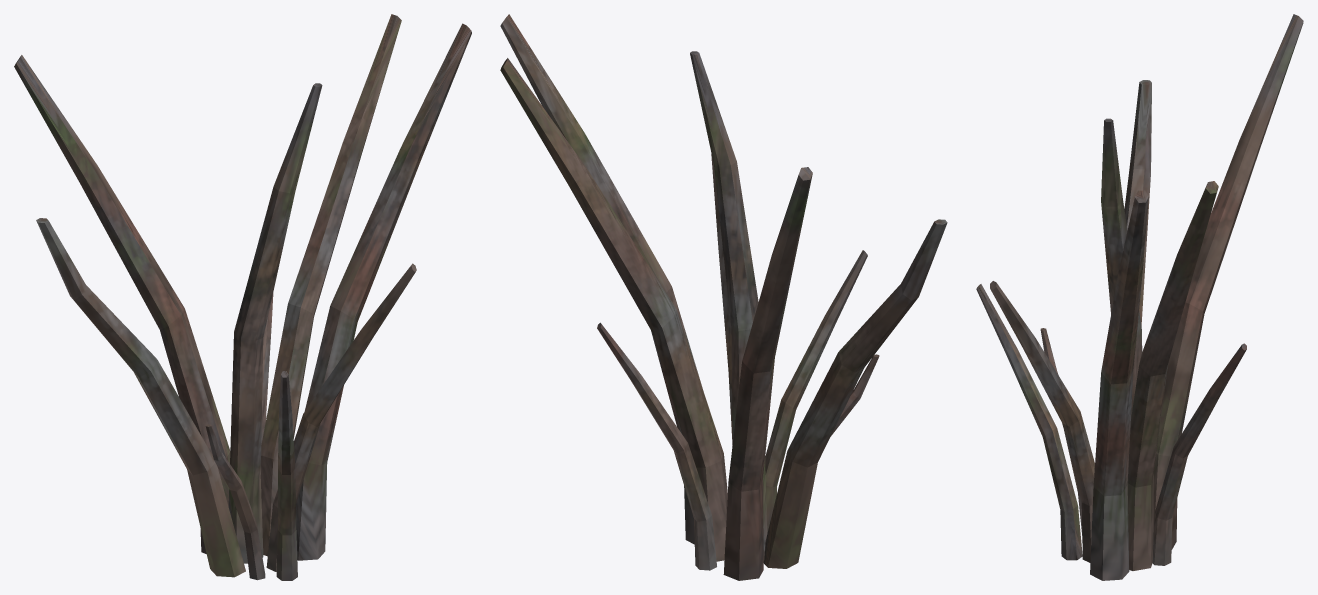
The model's file is tree02.fbx.
3 views of the same model, side by side, from view 1: azimuth 30°, elevation 25°; view 2: azimuth 150°, elevation 25°; view 3: azimuth 270°, elevation 25° (orthographic). The views are drawn at different scales.
Parts seen in each view (by area): view 1: 円柱; view 2: 円柱; view 3: 円柱.
Part boxes in pixels (left/top/right/bottom): 円柱: left=14, top=14, right=471, bottom=580; 円柱: left=500, top=14, right=947, bottom=580; 円柱: left=976, top=14, right=1303, bottom=580.
Size of the model in its own units: 5.47 by 5.78 by 3.65.
1 material, 1 textured.
